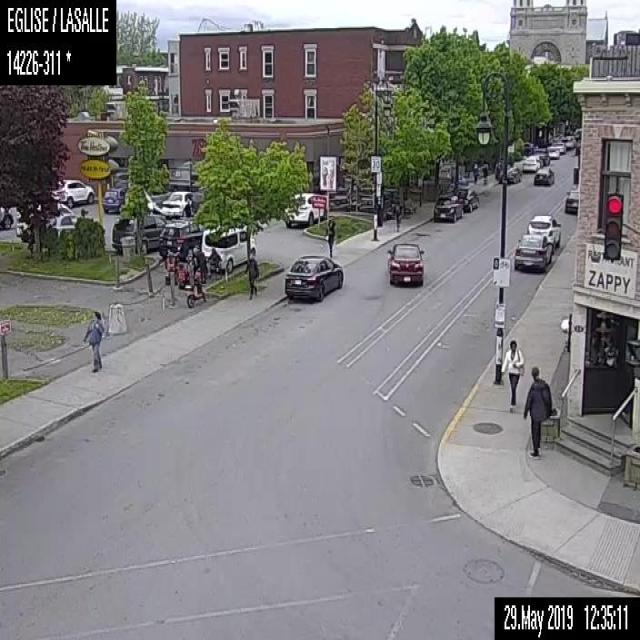pedestrian: (523, 366, 552, 458), (500, 339, 524, 412), (176, 244, 208, 288), (82, 310, 104, 374), (165, 240, 185, 283), (243, 252, 258, 300), (327, 220, 335, 257), (392, 204, 400, 231), (182, 195, 191, 216), (481, 158, 487, 182), (473, 163, 478, 185)
vehicle: (284, 253, 342, 300), (201, 224, 256, 271), (16, 200, 74, 240), (110, 214, 164, 254), (158, 218, 203, 258), (386, 240, 424, 287), (283, 190, 326, 227), (512, 232, 549, 272), (52, 176, 95, 208), (526, 212, 560, 252), (432, 195, 463, 222), (44, 210, 78, 234), (161, 190, 191, 216), (184, 277, 207, 308), (456, 187, 479, 213), (102, 186, 124, 213), (497, 165, 522, 184), (532, 166, 554, 185), (563, 186, 577, 213), (532, 146, 550, 166), (521, 155, 540, 171), (0, 204, 12, 229), (561, 134, 575, 148), (545, 145, 559, 158), (554, 142, 566, 154)
